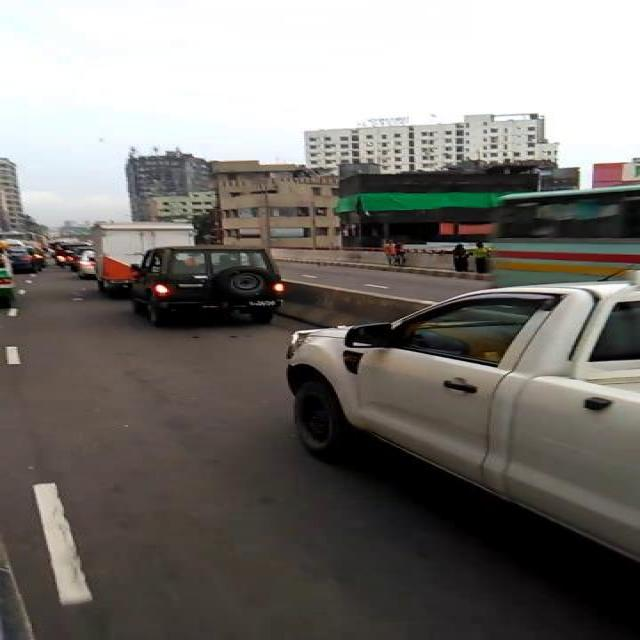vehicle: (277, 272, 639, 568), (128, 244, 290, 330)
